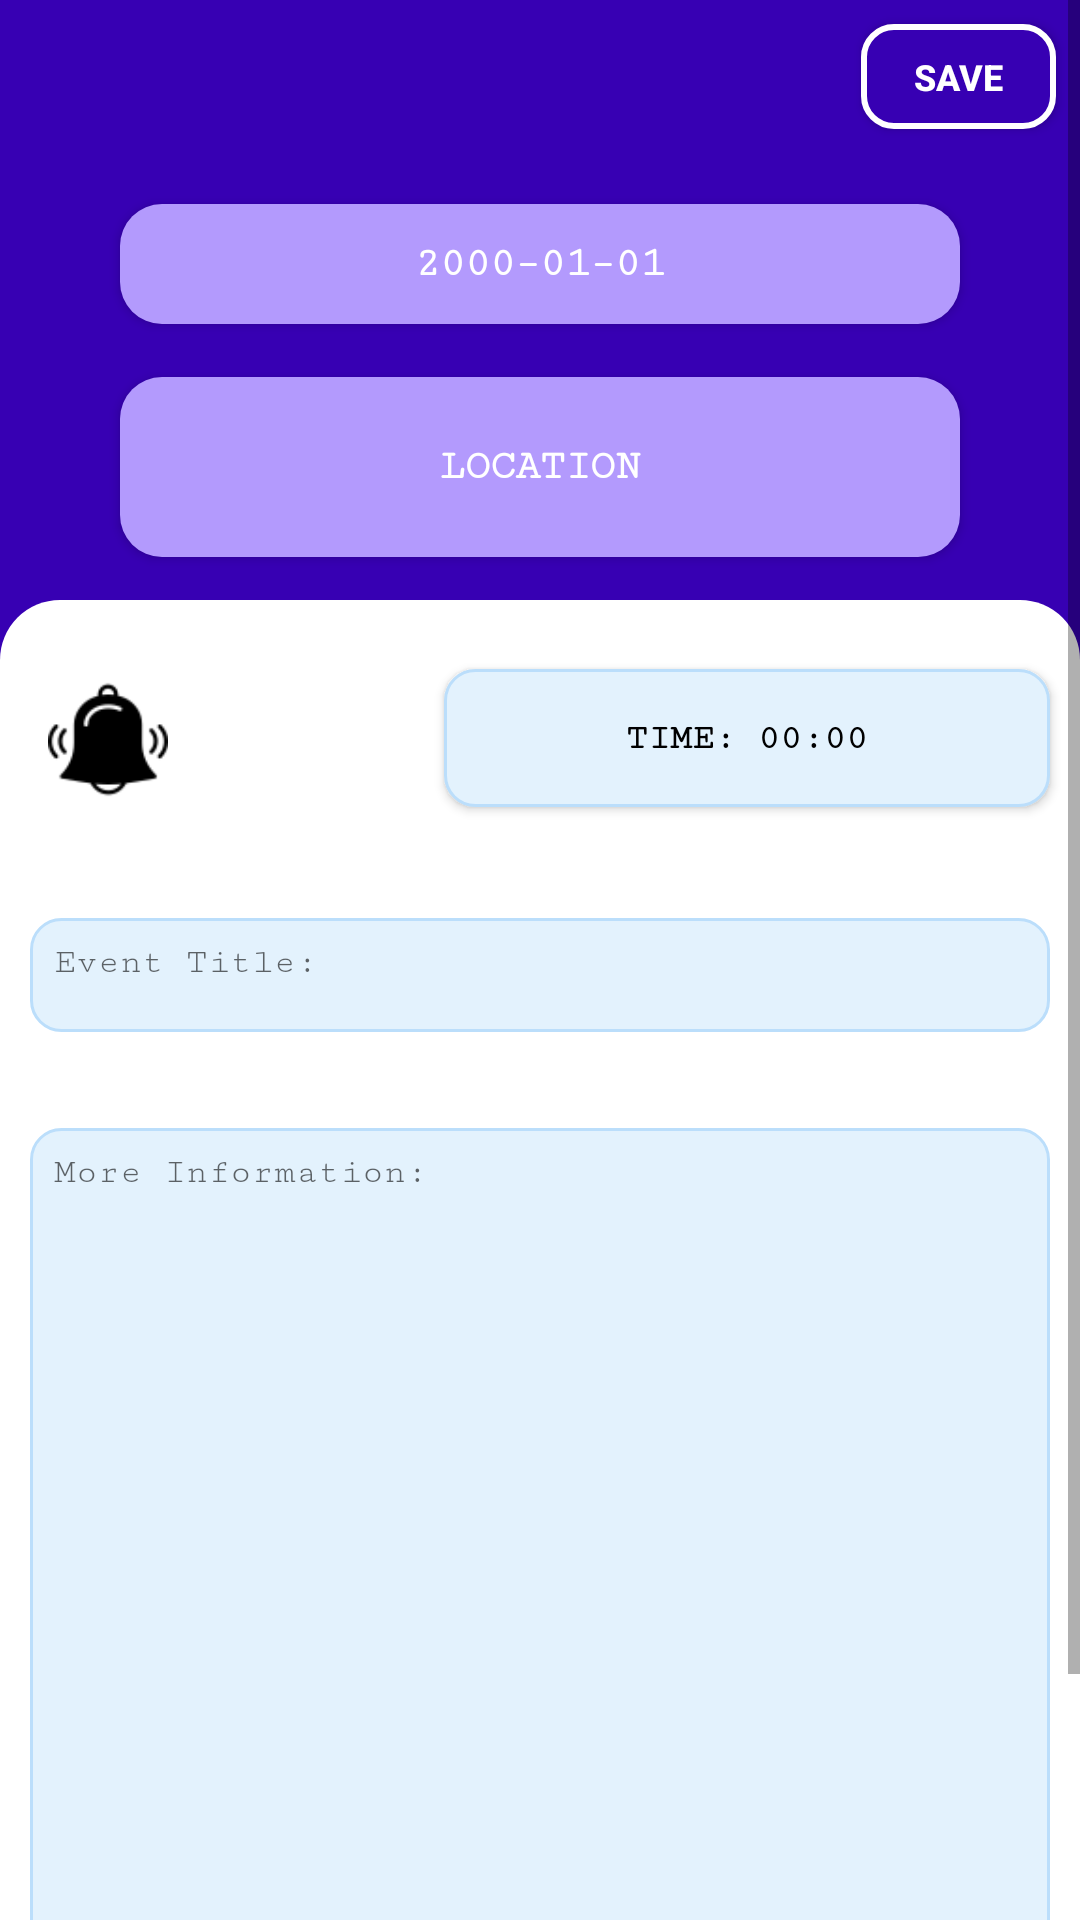

Point at icon controls on the screen. Image size 1080px×1920px, points as [x,y].
alarm: [108,739]
